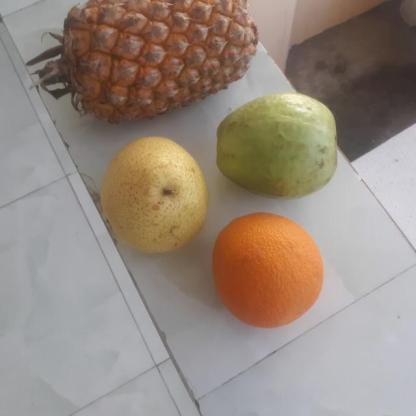guava: (214, 91, 338, 200)
orange: (208, 210, 328, 330)
pear: (99, 136, 208, 251)
pineapple: (49, 0, 255, 122)
